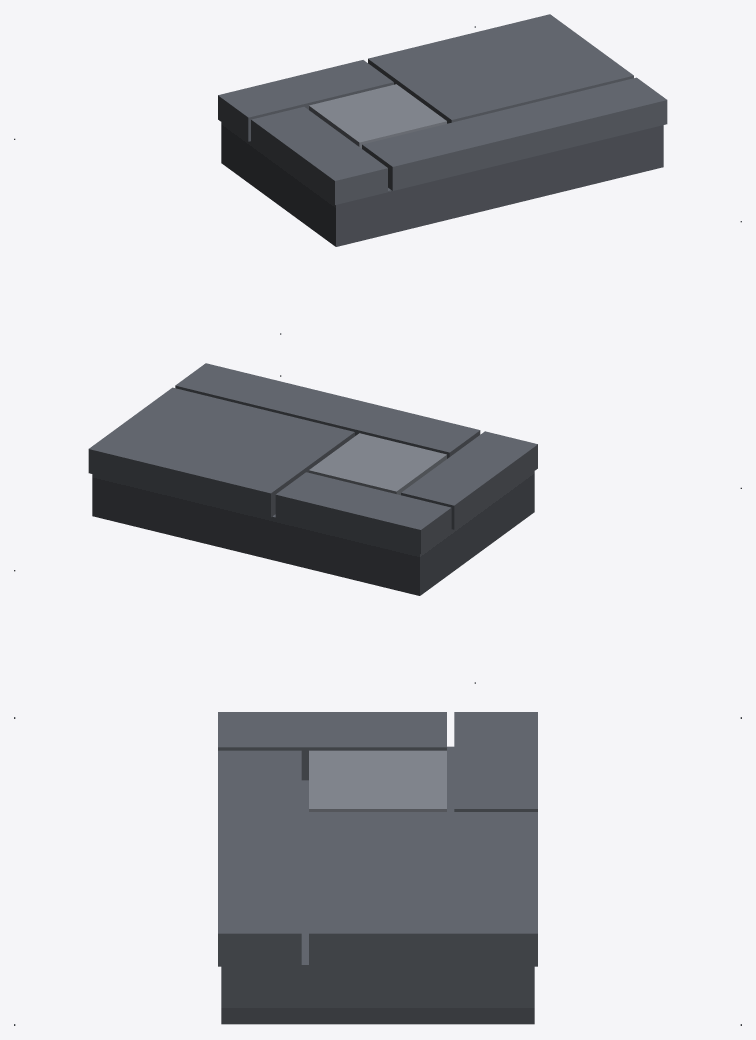
Rendered from floor_metal_end.glb.
3 views of the same model, one above another, from view 1: azimuth 30°, elevation 25°; view 2: azimuth 150°, elevation 25°; view 3: azimuth 270°, elevation 25° (orthographic). The views are drawn at different scales.
Size of the model in its own units: 1 by 0.14 by 1.
Materials: 1 (1 with a texture image).
